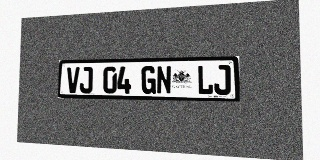0: (103, 66, 117, 94)
4: (117, 66, 131, 94)
G: (141, 66, 156, 94)
J: (214, 65, 231, 95), (79, 67, 93, 93)
L: (197, 65, 213, 95)
N: (156, 66, 171, 94)
V: (66, 67, 80, 93)
